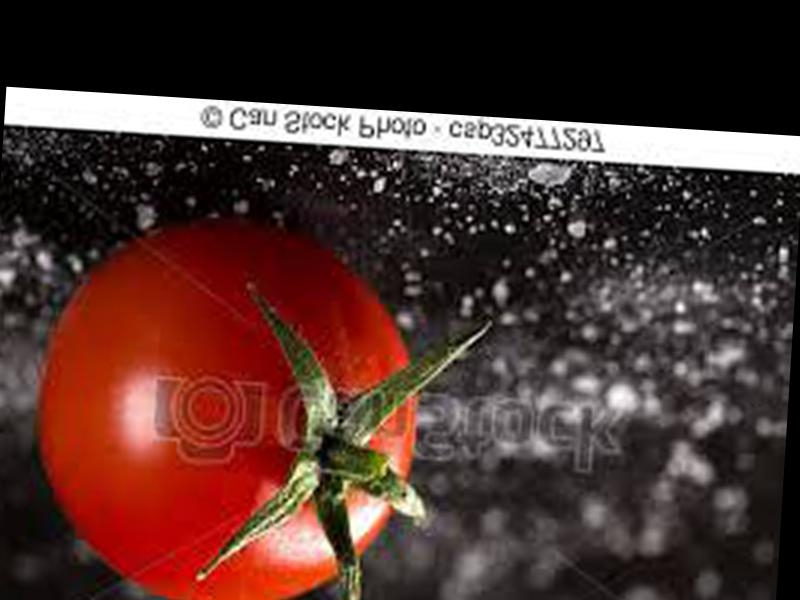Tomato: (26, 212, 428, 600)
